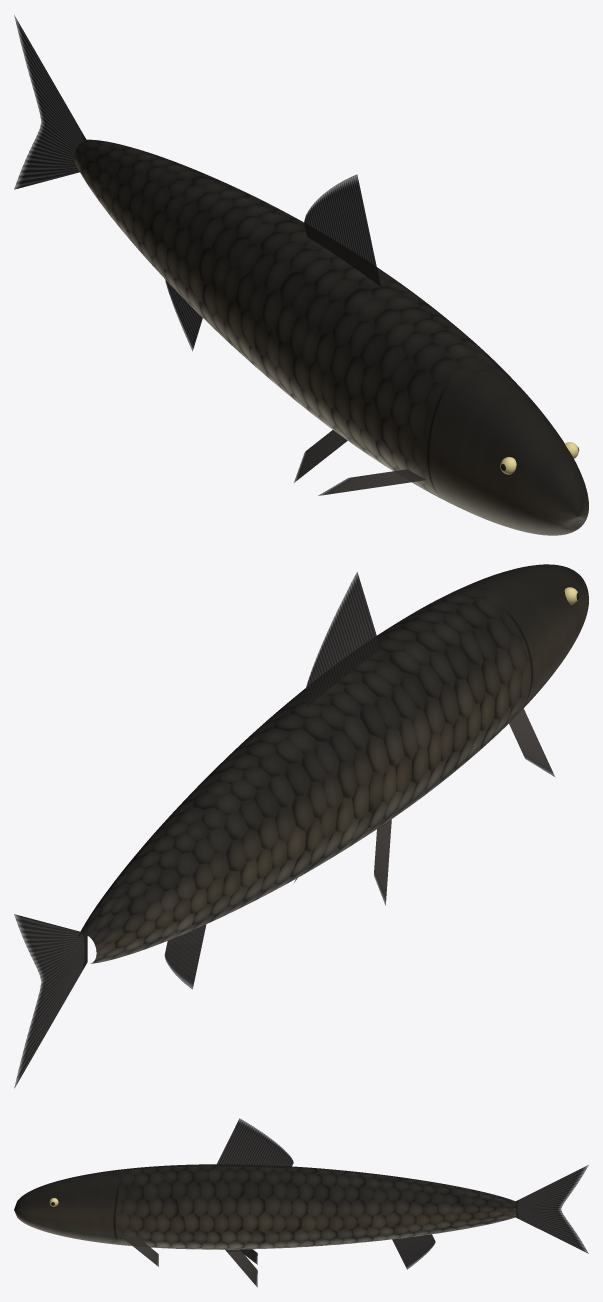
The model's file is chamur.glb.
3 views of the same model, one above another, from view 1: azimuth 30°, elevation 25°; view 2: azimuth 150°, elevation 25°; view 3: azimuth 270°, elevation 25° (orthographic). The views are drawn at different scales.
Parts seen in each view (by area): view 1: body, fin_tail, fin_dorsal0, fin_pect_R, fin_pelv_R, fin_anal0; view 2: body, fin_tail, fin_dorsal0, fin_anal0, fin_pect_R, fin_pelv_R; view 3: body, fin_tail, fin_dorsal0, fin_anal0, fin_pelv_L, fin_pect_L.
Boxes of the visible parts, x1,y1,x2,y2 form: body: (74, 139, 588, 535); fin_tail: (14, 15, 86, 189); fin_dorsal0: (304, 174, 380, 286); fin_pect_R: (318, 469, 426, 495); fin_pelv_R: (294, 430, 347, 482); fin_anal0: (165, 279, 202, 351); body: (80, 564, 588, 963); fin_tail: (14, 914, 87, 1087); fin_dorsal0: (304, 572, 380, 706); fin_anal0: (164, 924, 206, 989); fin_pect_R: (507, 705, 554, 776); fin_pelv_R: (374, 819, 391, 905); body: (14, 1164, 516, 1249); fin_tail: (515, 1165, 588, 1253); fin_dorsal0: (215, 1118, 293, 1168); fin_anal0: (392, 1234, 435, 1269); fin_pelv_L: (225, 1249, 257, 1287); fin_pect_L: (120, 1236, 158, 1266).
Size of the model in its own units: 0.1947 by 0.2428 by 0.8.
5 materials, 3 textured.
